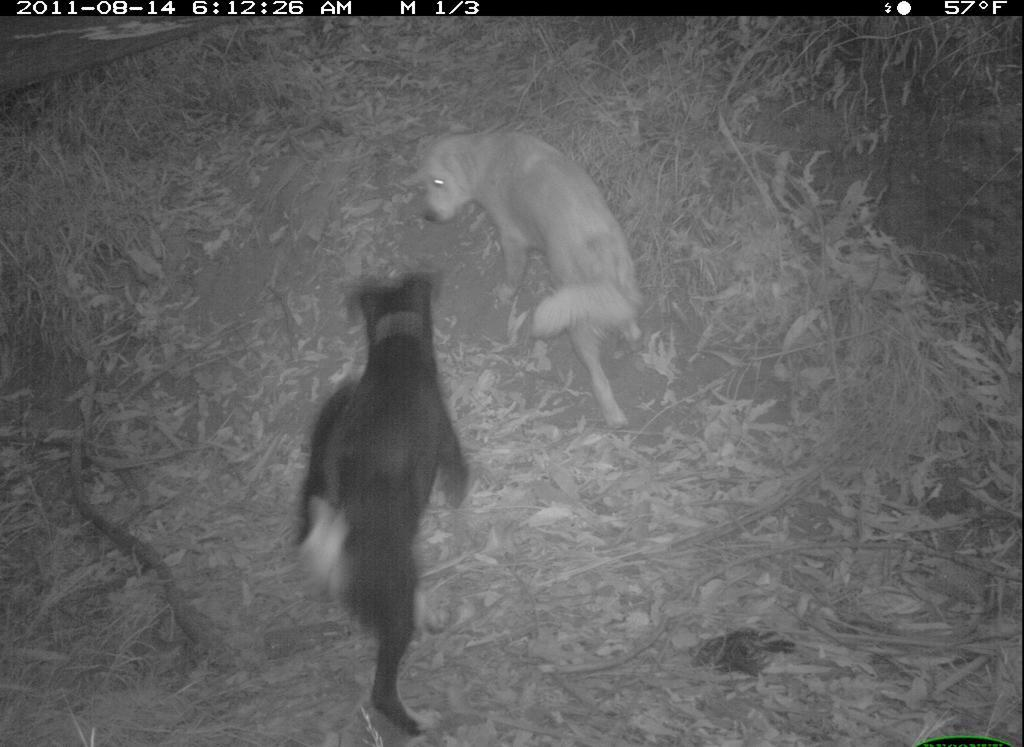dog: (287, 268, 491, 740), (414, 121, 676, 442)
